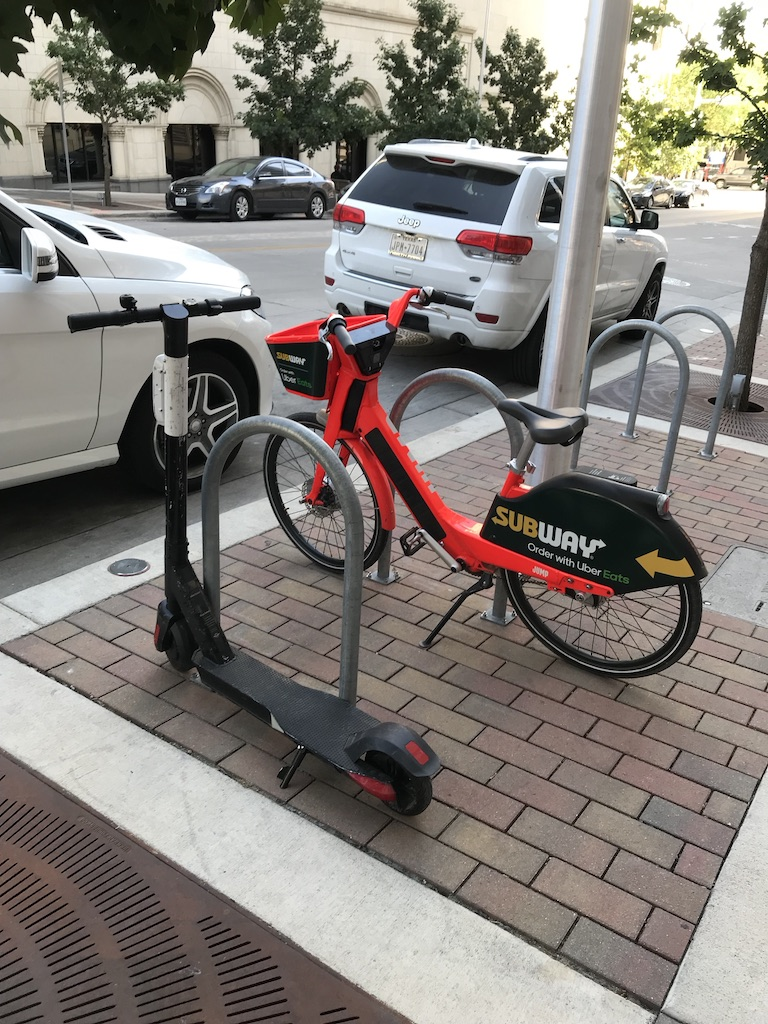scooter: (65, 293, 443, 818)
